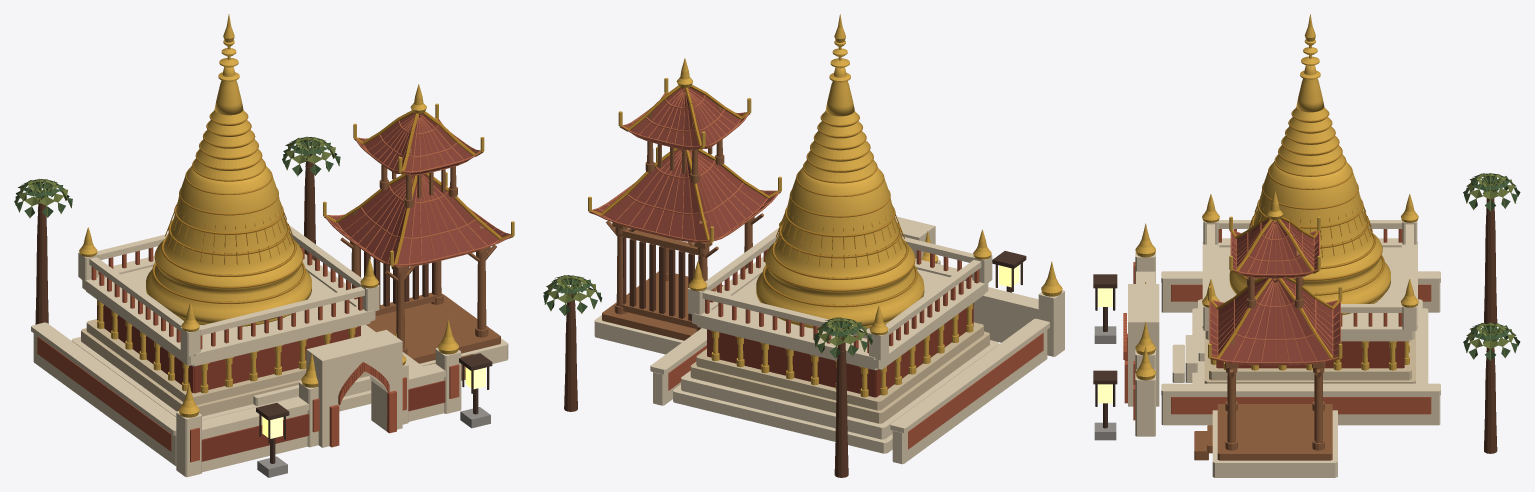
The model's file is dagon.glb.
The picture shows the model from 3 angles, left to right: view 1: azimuth 30°, elevation 25°; view 2: azimuth 150°, elevation 25°; view 3: azimuth 270°, elevation 25°; orthographic projection. The views are drawn at different scales.
Parts seen in each view (by area): view 1: dagon_B03R2_dagon_StoneLight, dagon_B03R2_dagon_Gold, dagon_B03R2_dagon_Roof, dagon_B03R2_dagon_WoodLight, dagon_B03R2_dagon_RedStone, dagon_B03R2_dagon_RedShade, dagon_B03R2_dagon_GoldShade, dagon_B03R2_dagon_Stone, dagon_B03R2_dagon_RoofEdge, dagon_B03R2_dagon_Wood, dagon_B03R2_dagon_LeafLight, dagon_B03R2_dagon_Leaf (+3 smaller); view 2: dagon_B03R2_dagon_StoneLight, dagon_B03R2_dagon_Gold, dagon_B03R2_dagon_Roof, dagon_B03R2_dagon_Stone, dagon_B03R2_dagon_GoldShade, dagon_B03R2_dagon_Wood, dagon_B03R2_dagon_WoodLight, dagon_B03R2_dagon_RedStone, dagon_B03R2_dagon_RedShade, dagon_B03R2_dagon_RoofEdge, dagon_B03R2_dagon_LeafLight, dagon_B03R2_dagon_Leaf (+1 smaller); view 3: dagon_B03R2_dagon_StoneLight, dagon_B03R2_dagon_Gold, dagon_B03R2_dagon_Roof, dagon_B03R2_dagon_WoodLight, dagon_B03R2_dagon_RedStone, dagon_B03R2_dagon_GoldShade, dagon_B03R2_dagon_RoofEdge, dagon_B03R2_dagon_Stone, dagon_B03R2_dagon_Wood, dagon_B03R2_dagon_RedShade, dagon_B03R2_dagon_LeafLight, dagon_B03R2_dagon_Leaf (+3 smaller).
Boxes of the visible parts, left/top/right/bottom form: dagon_B03R2_dagon_StoneLight: left=31, top=225, right=508, bottom=477; dagon_B03R2_dagon_Gold: left=79, top=14, right=514, bottom=417; dagon_B03R2_dagon_Roof: left=328, top=113, right=507, bottom=265; dagon_B03R2_dagon_WoodLight: left=340, top=137, right=500, bottom=380; dagon_B03R2_dagon_RedStone: left=37, top=246, right=459, bottom=462; dagon_B03R2_dagon_RedShade: left=97, top=300, right=445, bottom=461; dagon_B03R2_dagon_GoldShade: left=152, top=110, right=513, bottom=304; dagon_B03R2_dagon_Stone: left=81, top=319, right=369, bottom=416; dagon_B03R2_dagon_RoofEdge: left=325, top=113, right=511, bottom=266; dagon_B03R2_dagon_Wood: left=35, top=155, right=435, bottom=324; dagon_B03R2_dagon_LeafLight: left=16, top=136, right=339, bottom=218; dagon_B03R2_dagon_Leaf: left=14, top=137, right=340, bottom=217; dagon_B03R2_dagon_StoneLight: left=594, top=216, right=1064, bottom=464; dagon_B03R2_dagon_Gold: left=588, top=14, right=1062, bottom=397; dagon_B03R2_dagon_Roof: left=594, top=87, right=776, bottom=241; dagon_B03R2_dagon_Stone: left=690, top=322, right=989, bottom=423; dagon_B03R2_dagon_GoldShade: left=589, top=84, right=917, bottom=307; dagon_B03R2_dagon_Wood: left=564, top=237, right=848, bottom=477; dagon_B03R2_dagon_WoodLight: left=602, top=105, right=763, bottom=340; dagon_B03R2_dagon_RedStone: left=668, top=248, right=1043, bottom=449; dagon_B03R2_dagon_RedShade: left=707, top=303, right=973, bottom=397; dagon_B03R2_dagon_RoofEdge: left=591, top=88, right=779, bottom=242; dagon_B03R2_dagon_LeafLight: left=544, top=275, right=871, bottom=358; dagon_B03R2_dagon_Leaf: left=543, top=275, right=872, bottom=357; dagon_B03R2_dagon_StoneLight: left=1128, top=220, right=1440, bottom=477; dagon_B03R2_dagon_Gold: left=1135, top=14, right=1418, bottom=380; dagon_B03R2_dagon_Roof: left=1210, top=219, right=1339, bottom=364; dagon_B03R2_dagon_WoodLight: left=1194, top=230, right=1332, bottom=460; dagon_B03R2_dagon_RedStone: left=1123, top=229, right=1431, bottom=420; dagon_B03R2_dagon_GoldShade: left=1209, top=109, right=1384, bottom=360; dagon_B03R2_dagon_RoofEdge: left=1209, top=220, right=1340, bottom=365; dagon_B03R2_dagon_Stone: left=1204, top=331, right=1415, bottom=383; dagon_B03R2_dagon_Wood: left=1484, top=198, right=1497, bottom=453; dagon_B03R2_dagon_RedShade: left=1216, top=341, right=1404, bottom=368; dagon_B03R2_dagon_LeafLight: left=1466, top=173, right=1518, bottom=360; dagon_B03R2_dagon_Leaf: left=1463, top=173, right=1520, bottom=360.
Bounding box in the file's own units: 3.98 × 3.79 × 4.12.
